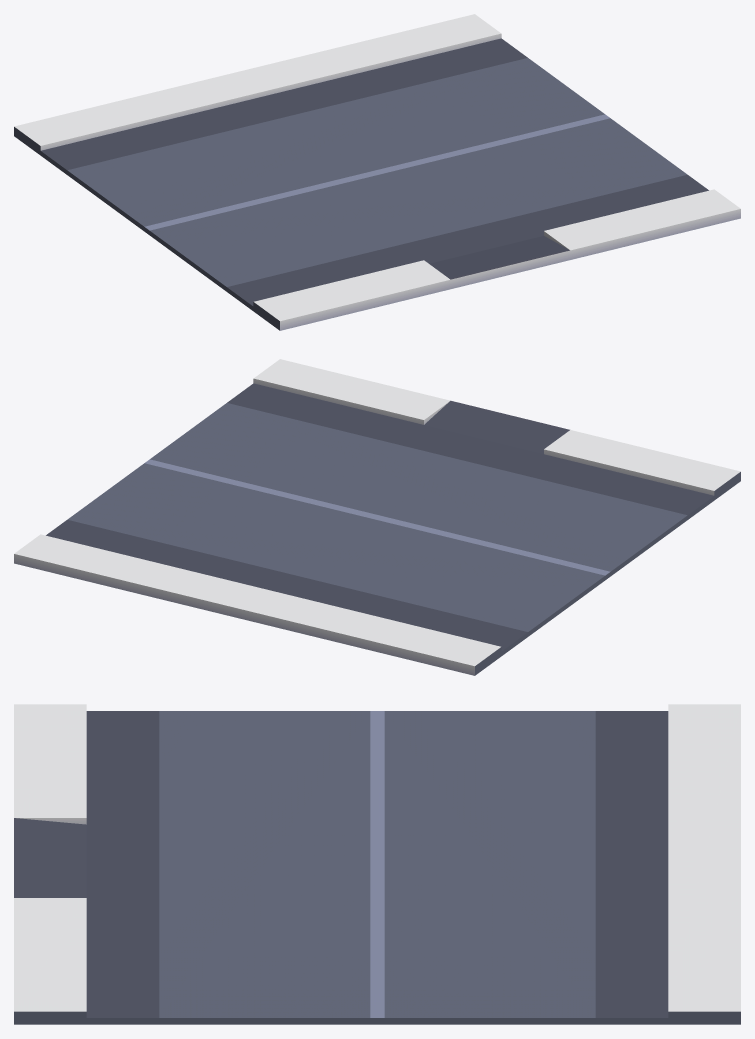
File: road-driveway-single.glb
3 views of the same model, one above another, from view 1: azimuth 30°, elevation 25°; view 2: azimuth 150°, elevation 25°; view 3: azimuth 270°, elevation 25° (orthographic). The views are drawn at different scales.
Visible parts, largest first — view 1: road-driveway-single; view 2: road-driveway-single; view 3: road-driveway-single.
Part boxes in pixels (x1,y1,x2,y2): road-driveway-single: [14, 14, 740, 330]; road-driveway-single: [14, 359, 740, 675]; road-driveway-single: [14, 704, 740, 1024].
Size of the model in its own units: 1 by 0.02 by 1.
Materials: 1 (1 with a texture image).
